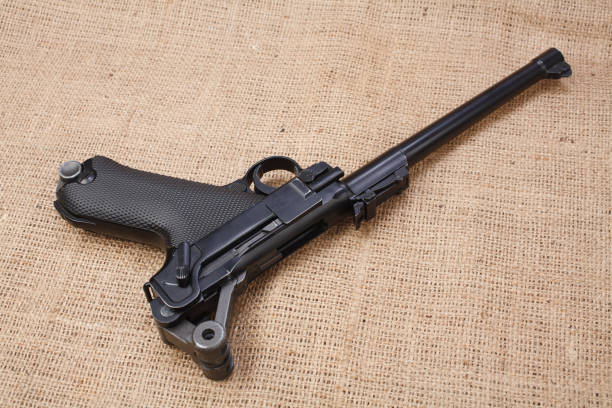gun: (50, 47, 575, 365)
